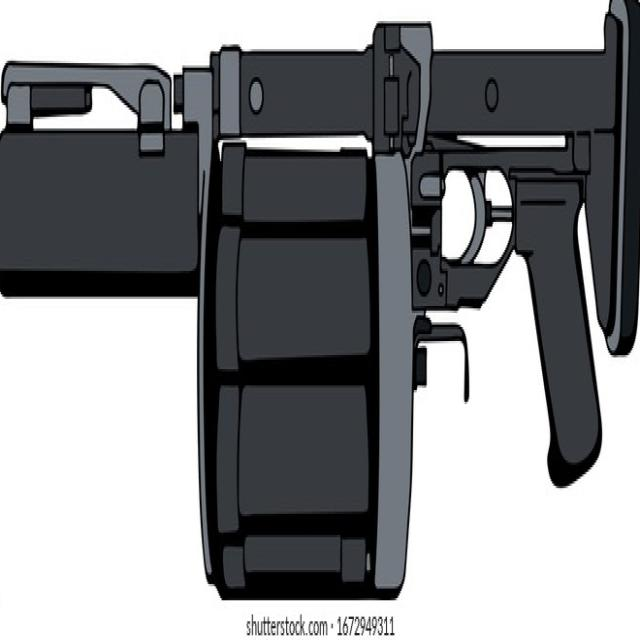Weapon: (0, 0, 640, 596)
